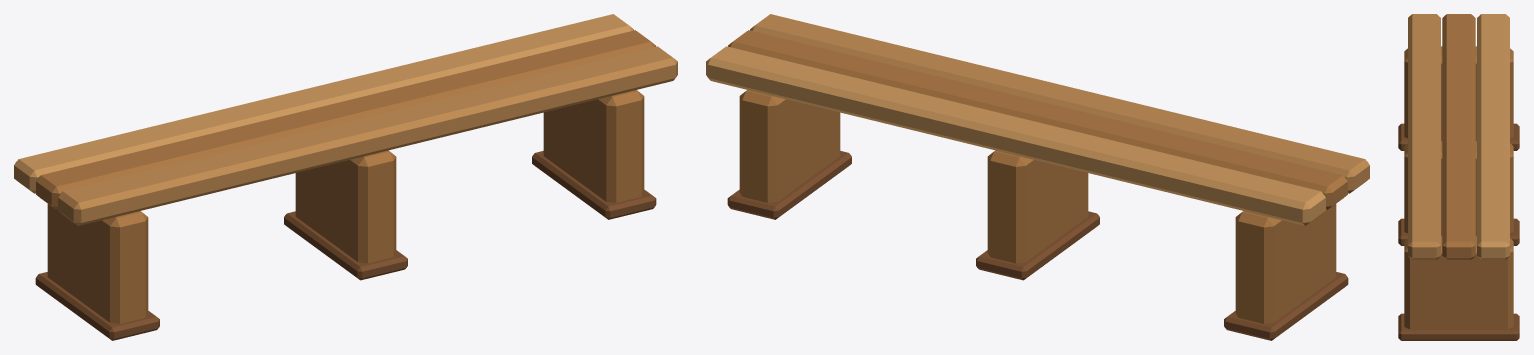
Rendered from arcade_bench.glb.
The picture shows the model from 3 angles, left to right: view 1: azimuth 30°, elevation 25°; view 2: azimuth 150°, elevation 25°; view 3: azimuth 270°, elevation 25°; orthographic projection. The views are drawn at different scales.
Parts seen in each view (by area): view 1: arcade_bench; view 2: arcade_bench; view 3: arcade_bench.
Part boxes in pixels (box(x1,y1,x2,y2)): arcade_bench: box(14, 14, 677, 340); arcade_bench: box(706, 14, 1369, 340); arcade_bench: box(1398, 14, 1519, 340).
Bounding box in the file's own units: 1.9 × 0.42 × 0.42.
